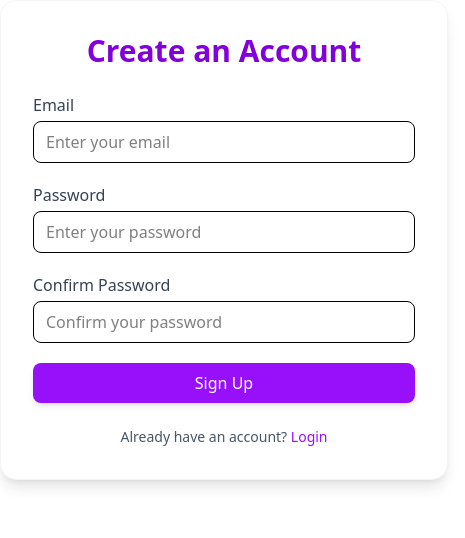
Scenario: shows error when passwords do not match
Step 1. Type "test@example.com" into the field with placeholder "Enter your email" → x=224, y=142, box x1=33 y1=121 x2=415 y2=163
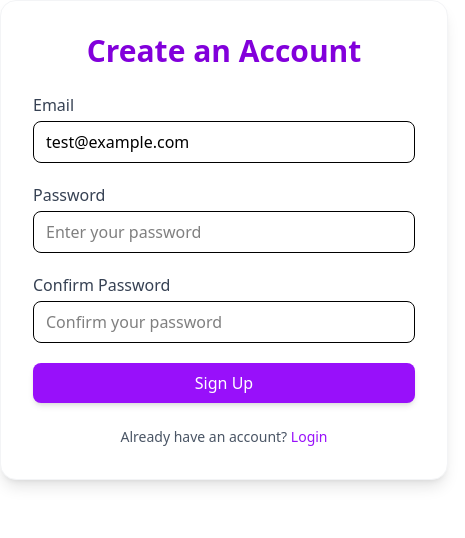
Step 2. Type "123456" into the password field with placeholder "Enter your password" → x=224, y=232, box x1=33 y1=211 x2=415 y2=253
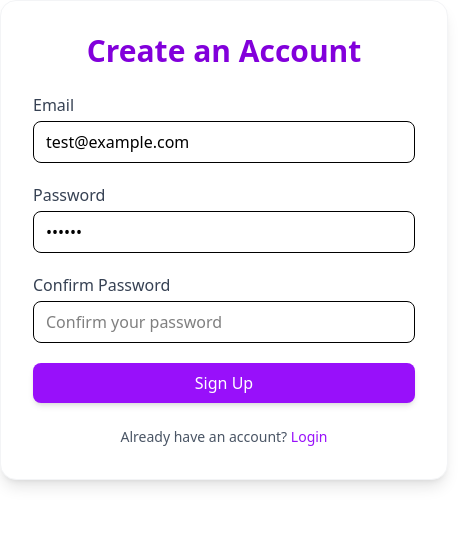
Step 3. Type "654321" into the password field with placeholder "Confirm your password" → x=224, y=322, box x1=33 y1=301 x2=415 y2=343
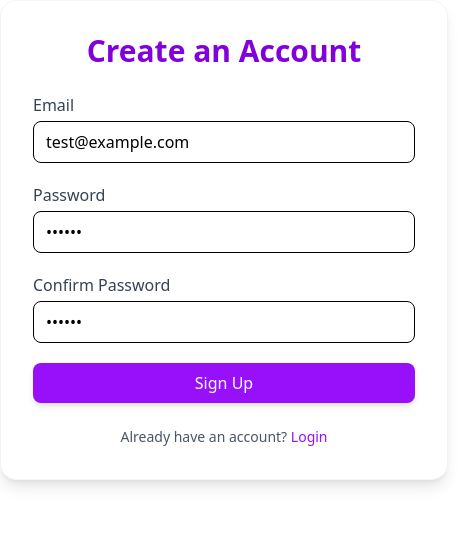
Step 4. Click the button "Sign Up" → x=224, y=383, box x1=33 y1=363 x2=415 y2=403
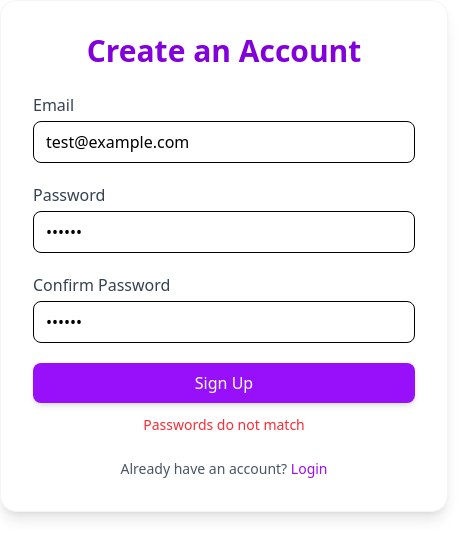
Result: the text "Passwords do not match" is shown at x1=143 y1=415 x2=305 y2=434
